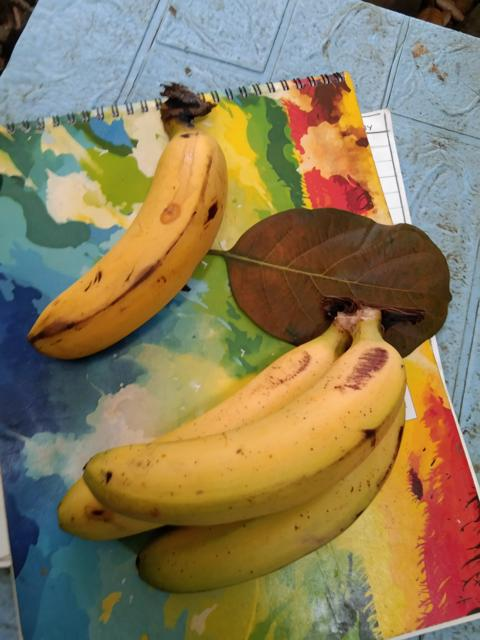ripe: (63, 328, 411, 519), (11, 117, 230, 363)
